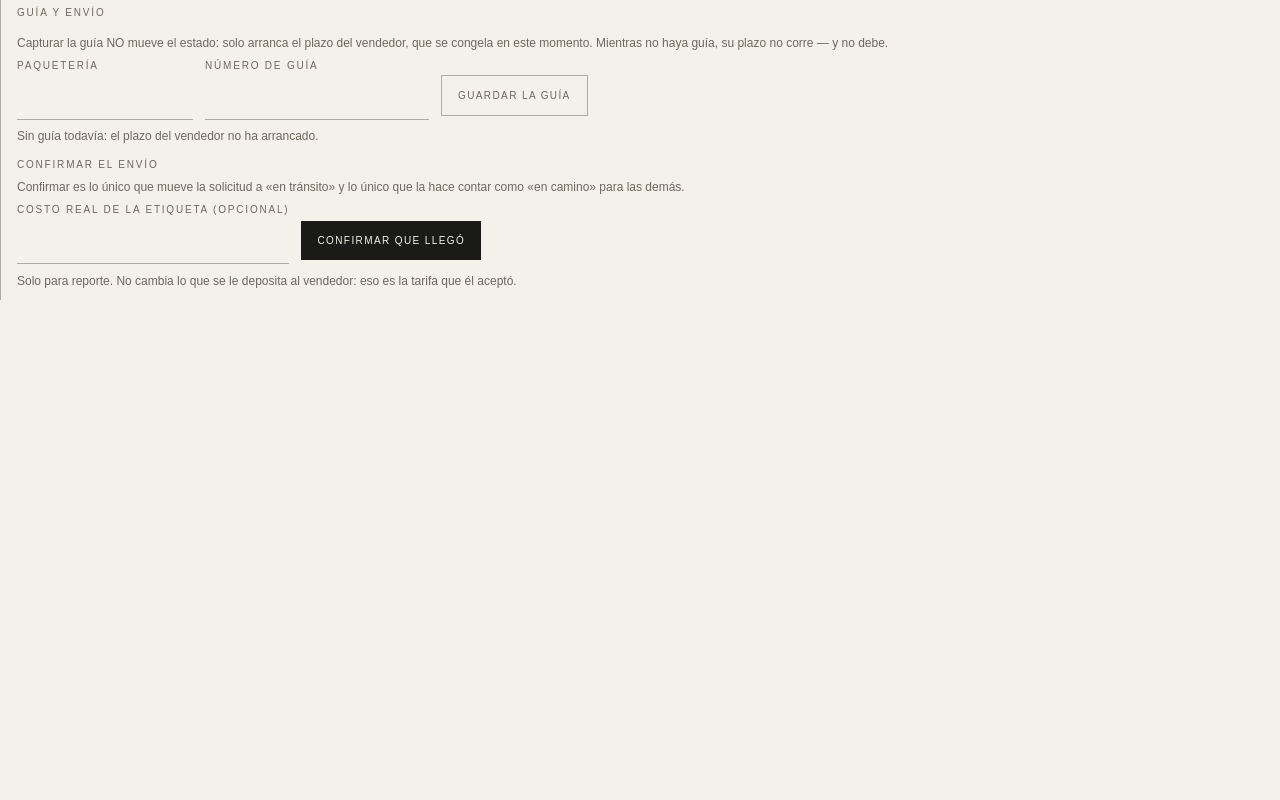
Test: Guía y confirmación — dos actos, y la separación ES el diseño › sin guía capturada AVISA en el diálogo pero deja confirmar igual
Click the button "Confirmar que llegó": (391, 241) [302,221,481,260]
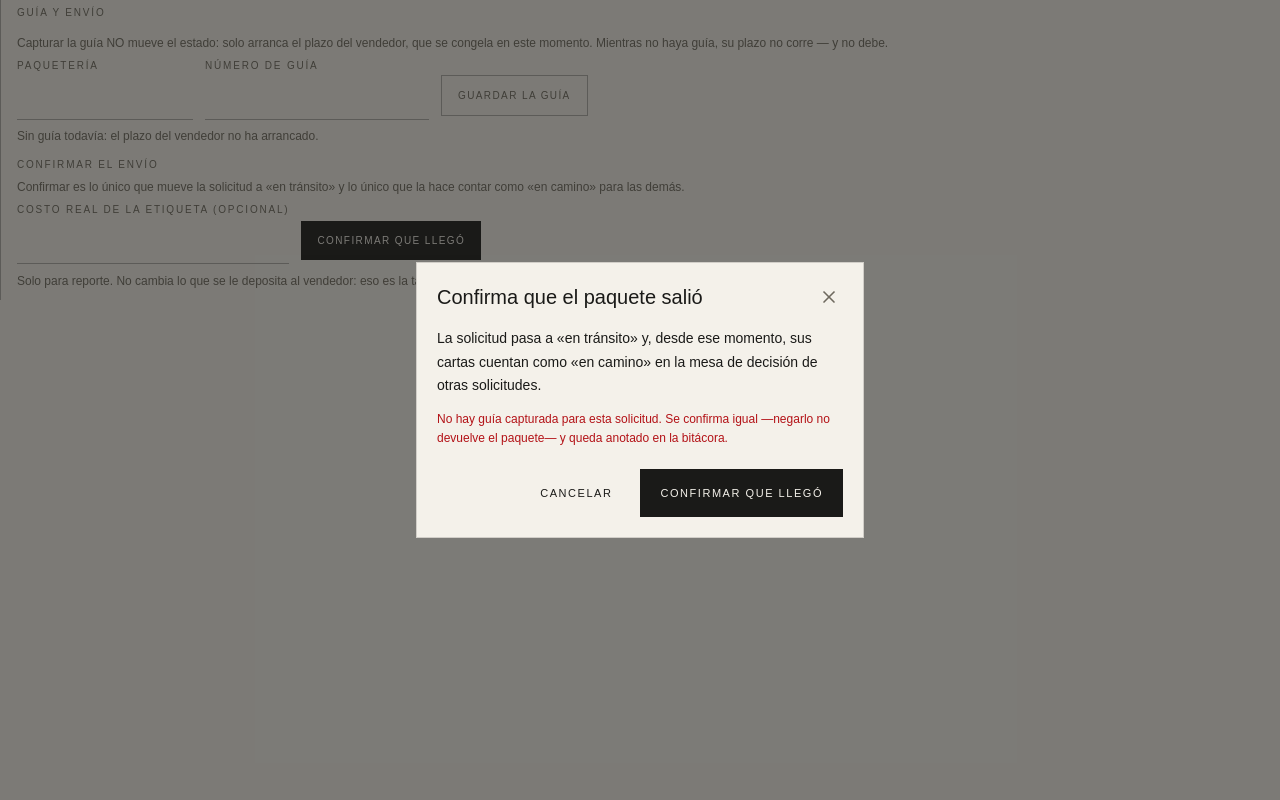
Check: the dialog shows "No hay guía capturada para esta solicitud.", box [437,412,830,446]
Check: the button "Confirmar que llegó" is enabled, box [640,469,843,517]
